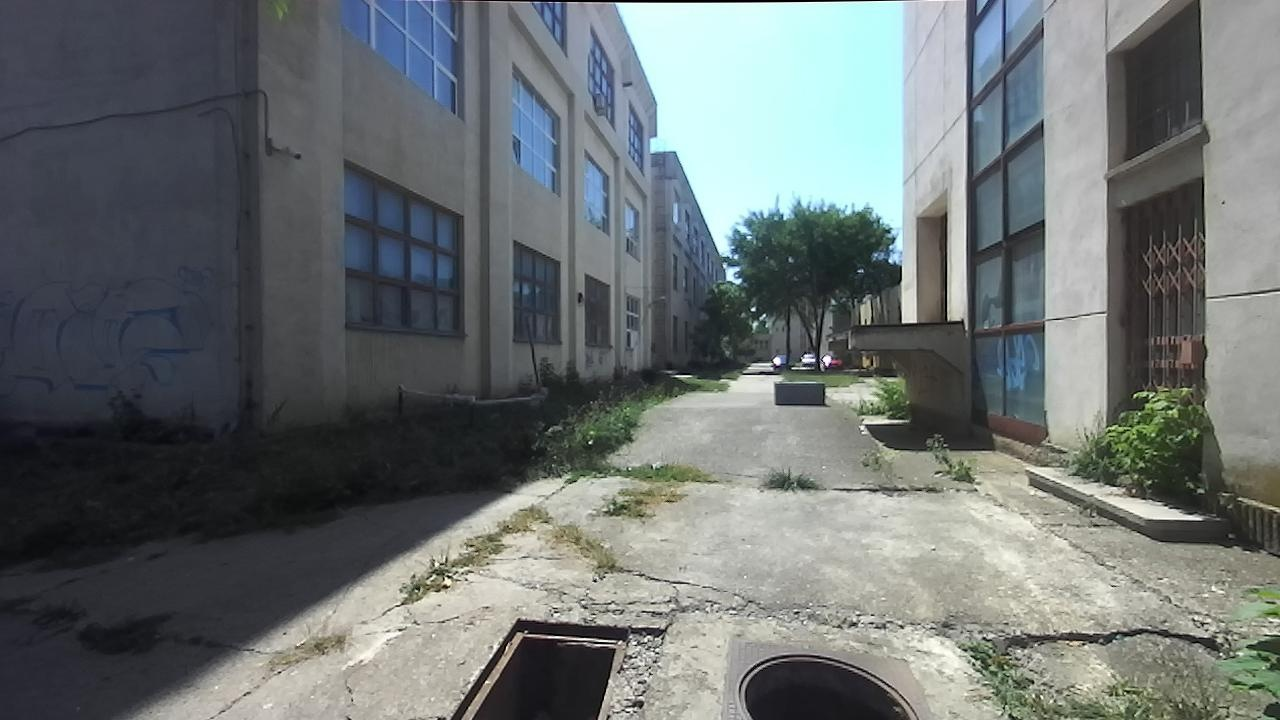drain: (444, 614, 629, 720), (729, 648, 922, 720)
